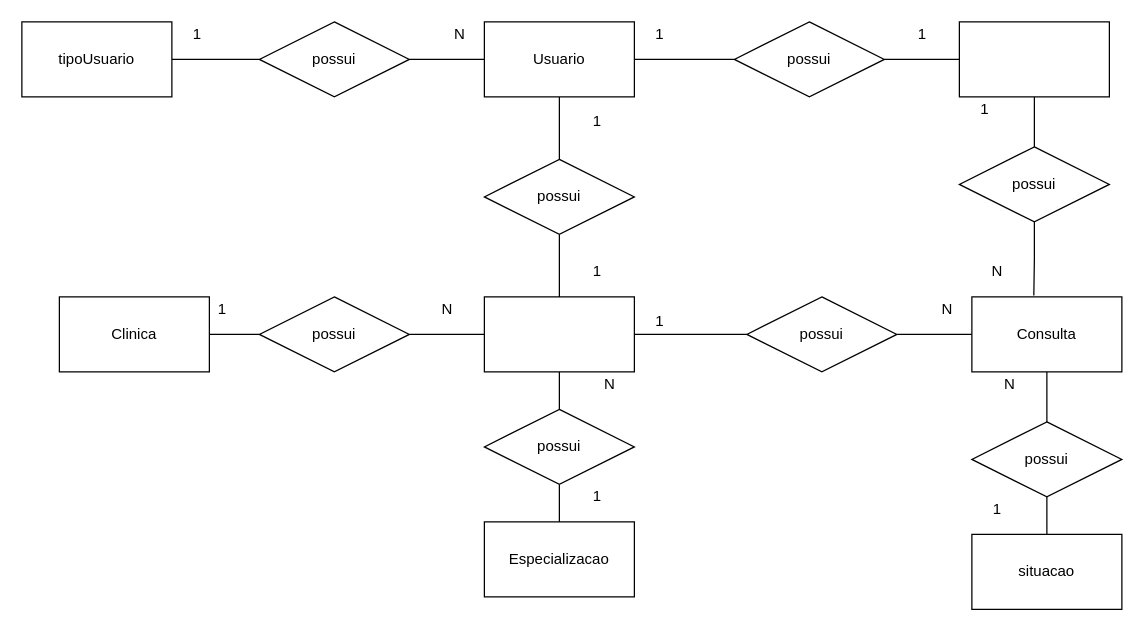
This 1144x631 diagram has some shape labels left out. The shapes that lost their labels are listed below. From the top down, each one's box as (x1, y1, x2, y2) in pixels, then its label:
(958, 21, 1109, 97): Paciente
(483, 296, 634, 372): Medico
